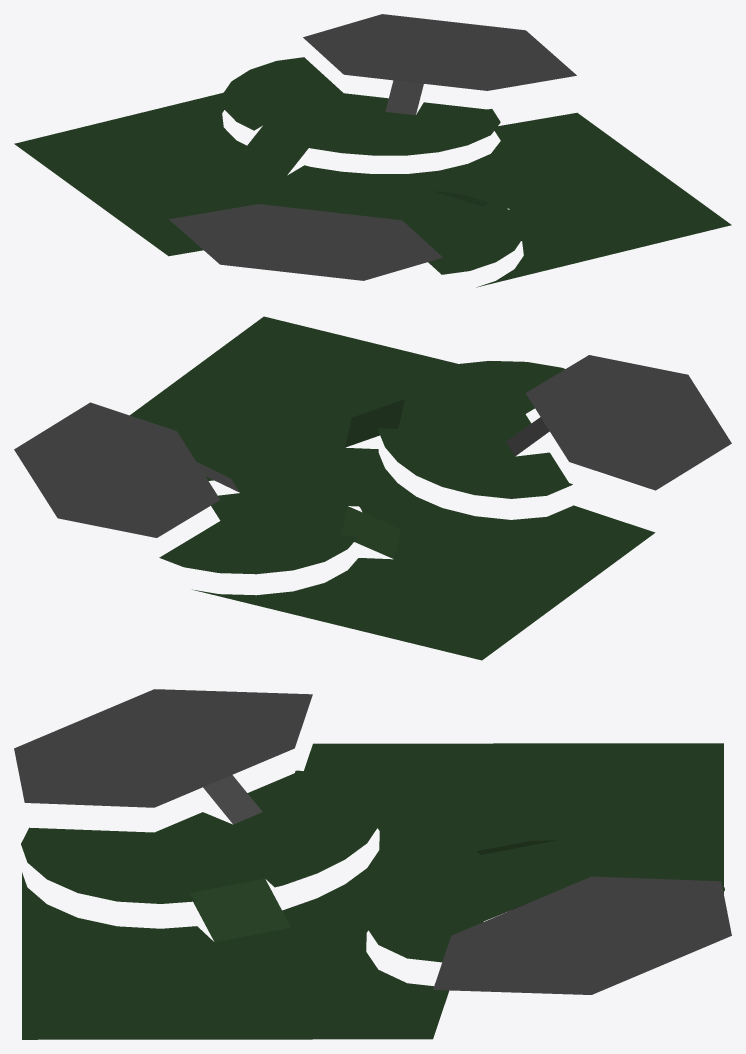
The model's file is Map1NavMesh.fbx.
3 renders of one model, top to bottom at view 1: azimuth 30°, elevation 25°; view 2: azimuth 150°, elevation 25°; view 3: azimuth 270°, elevation 25°, orthographic. The views are drawn at different scales.
Visible parts, largest first — view 1: NavMesh.001; view 2: NavMesh.001; view 3: NavMesh.001.
Boxes of the visible parts, bbox=[...] form: NavMesh.001: bbox=[14, 14, 731, 287]; NavMesh.001: bbox=[14, 316, 731, 660]; NavMesh.001: bbox=[14, 689, 731, 1039].
Bounding box in the file's own units: 31.87 × 2.4 × 31.61.
